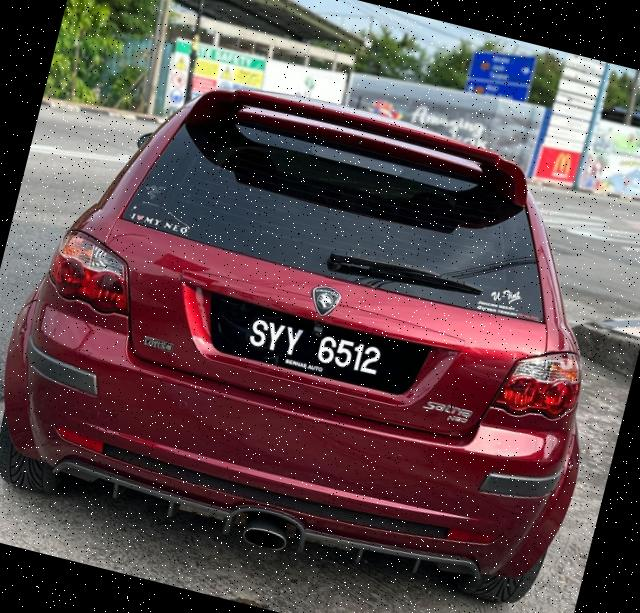License_Plate: (207, 297, 406, 388)
car: (1, 36, 640, 613)
